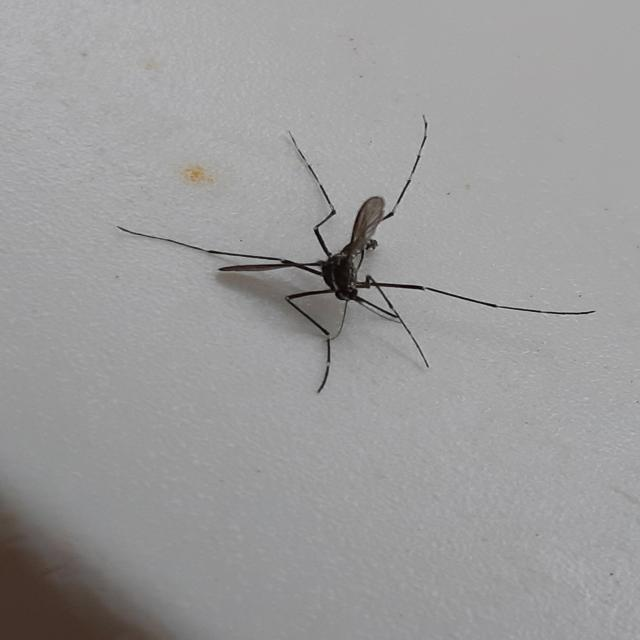albopictus: (125, 106, 589, 395)
